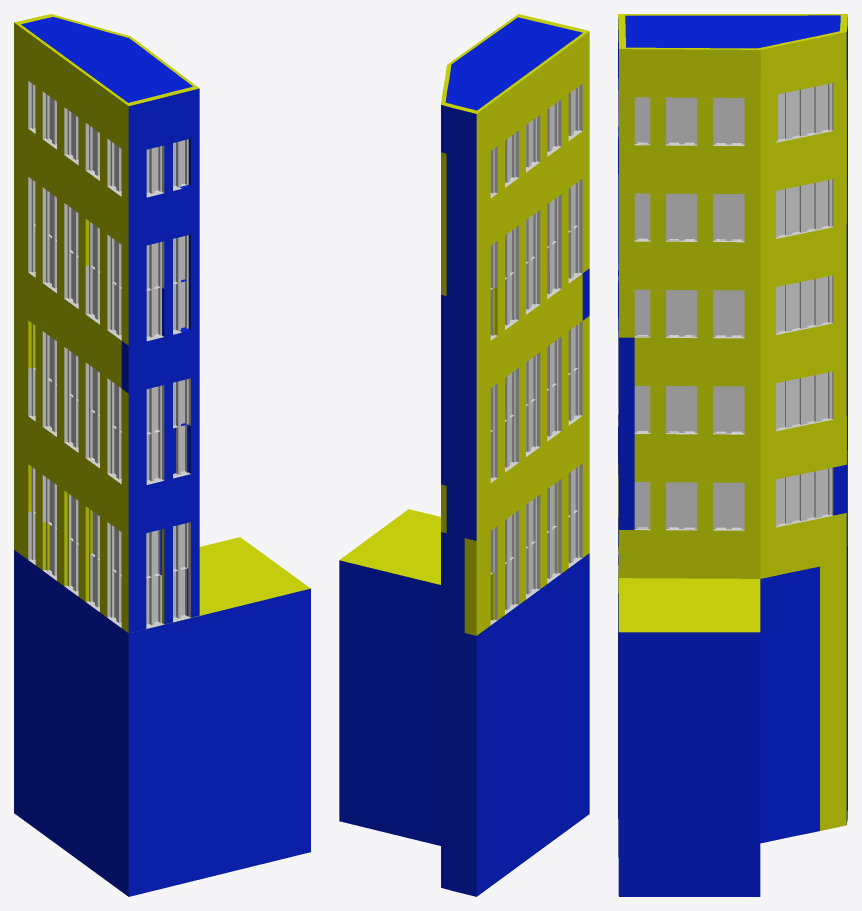
File: alexandria_tower.fbx
3 renders of one model, left to right at view 1: azimuth 30°, elevation 25°; view 2: azimuth 150°, elevation 25°; view 3: azimuth 270°, elevation 25°, orthographic.
Parts seen in each view (by area): view 1: alexandria_tower; view 2: alexandria_tower; view 3: alexandria_tower.
Part boxes in pixels (x1,y1,x2,y2): alexandria_tower: (14, 14, 310, 896); alexandria_tower: (339, 14, 589, 896); alexandria_tower: (618, 14, 847, 896).
Bounding box in the file's own units: 181 × 750 × 197.
